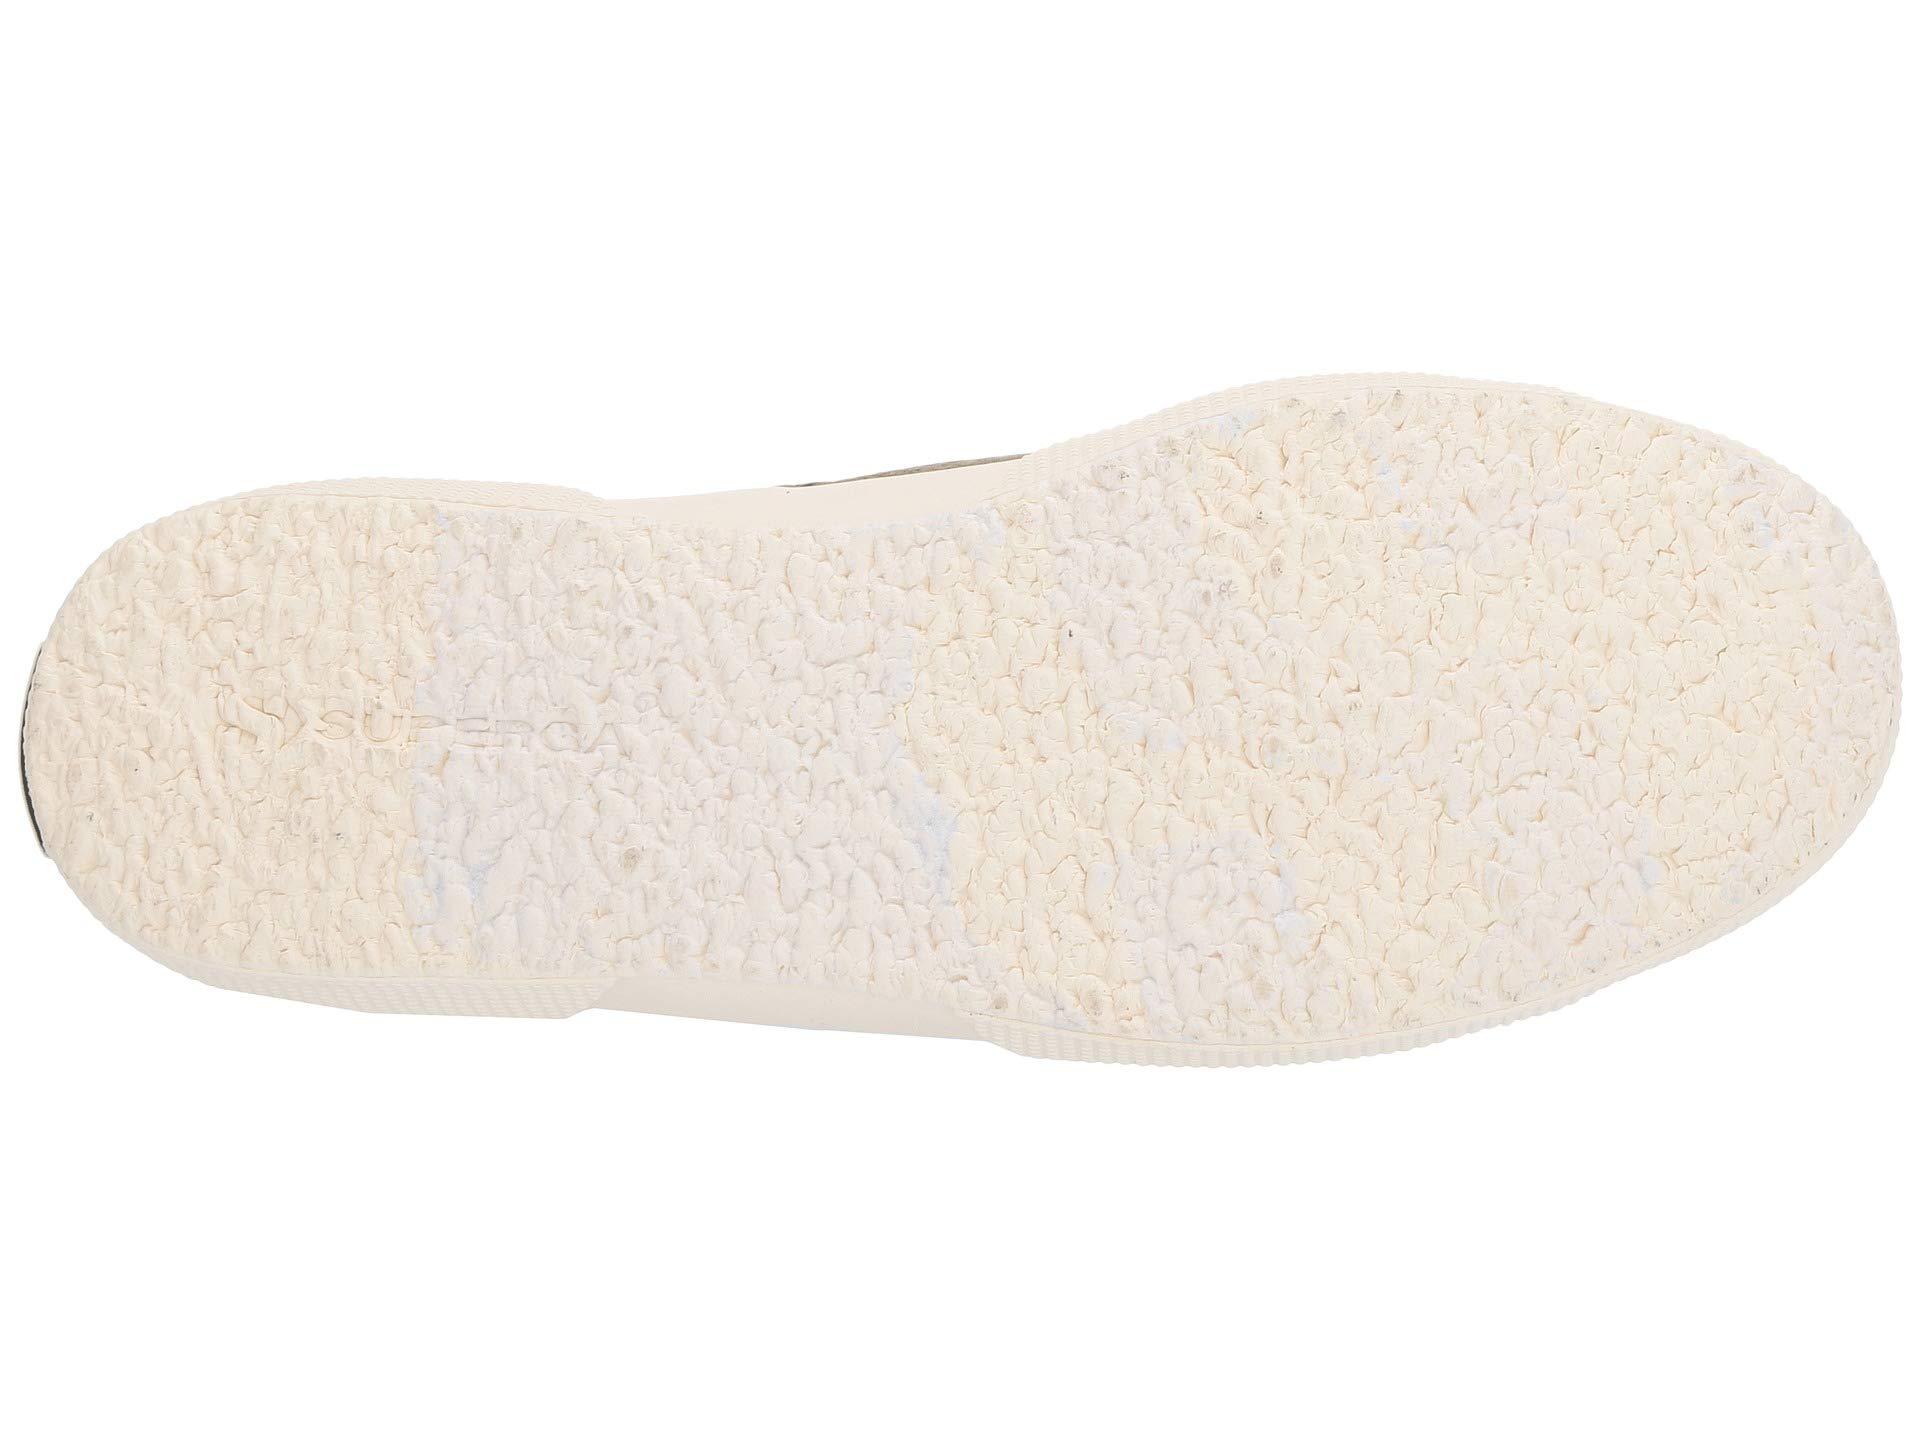other: (1089, 546, 1501, 923)
